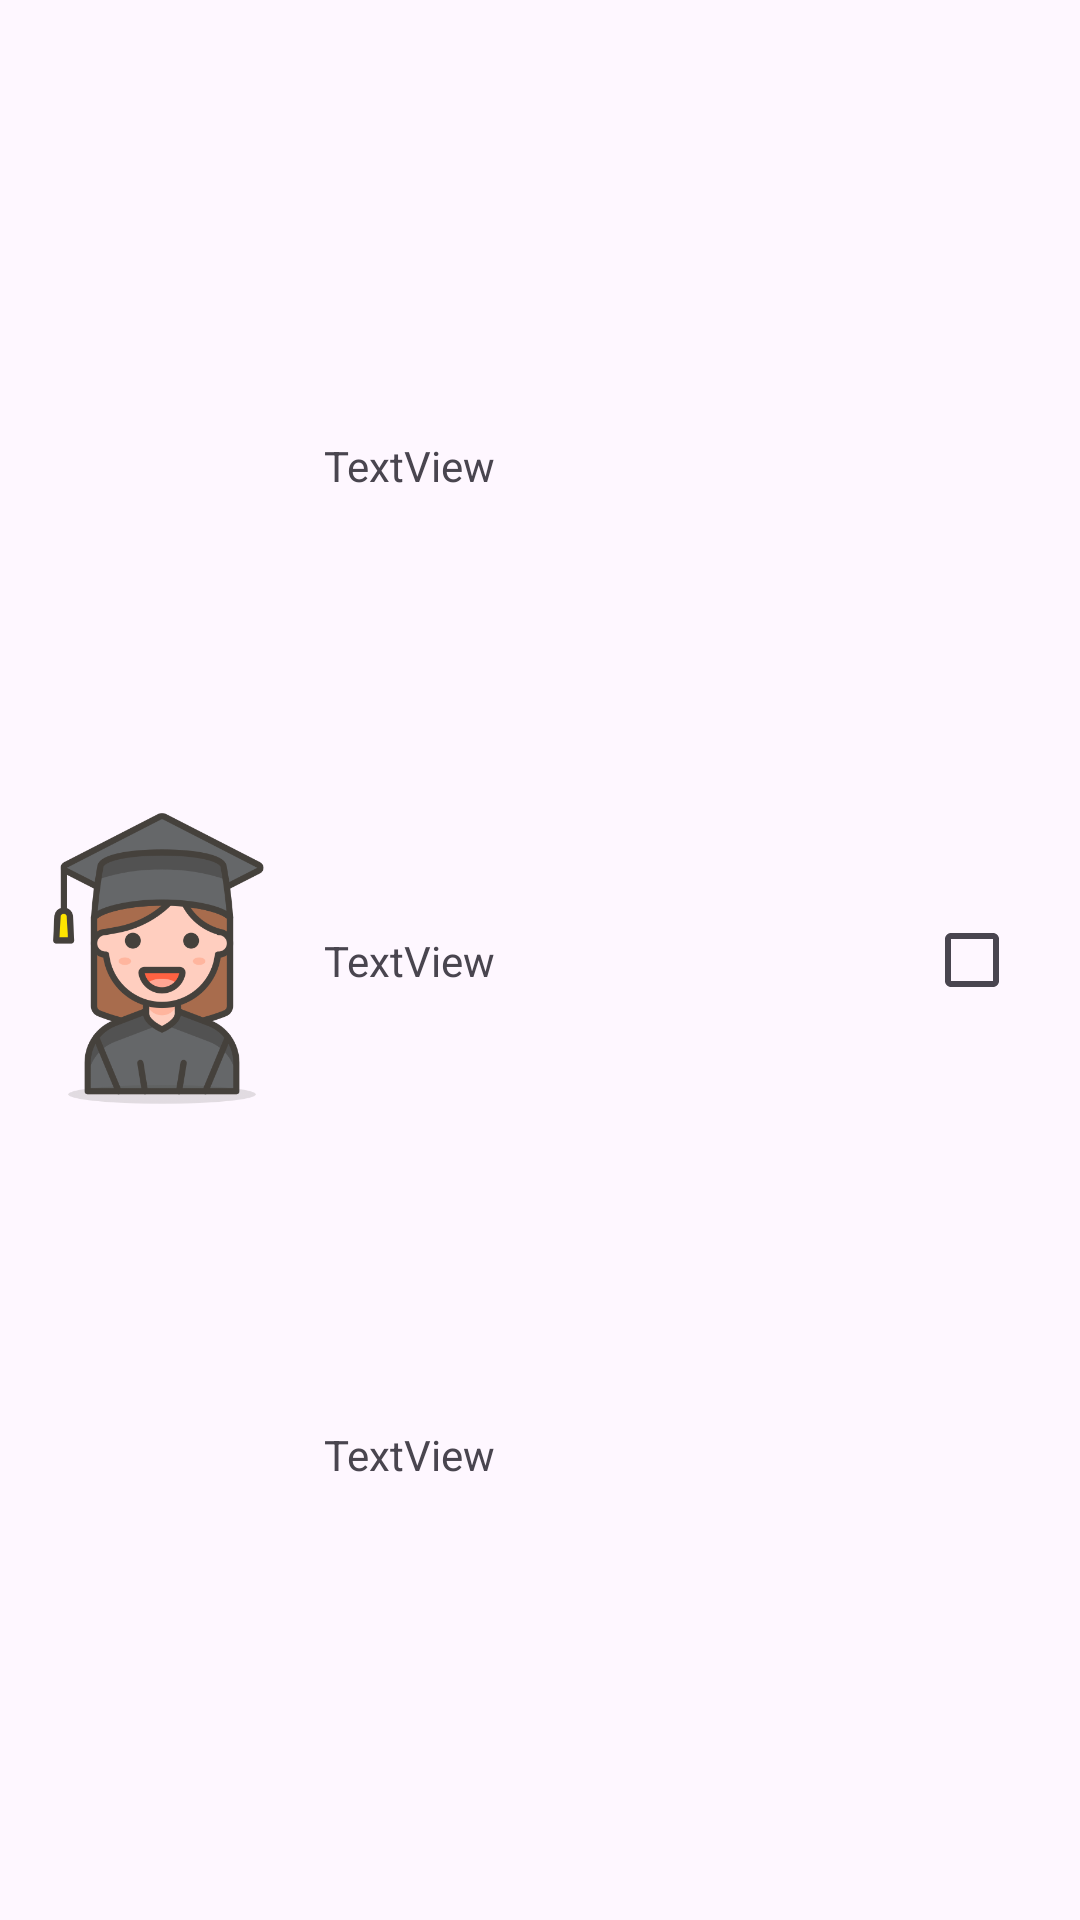

Where to tap for icons on this 1080px x 1920px app screen, as point (x, y):
studenticon: point (158, 958)
